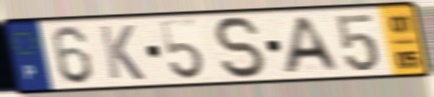5: (157, 17, 208, 83), (332, 11, 382, 73)
6: (50, 22, 96, 88)
A: (280, 14, 344, 76)
K: (96, 24, 148, 82)
S: (210, 15, 271, 81)
